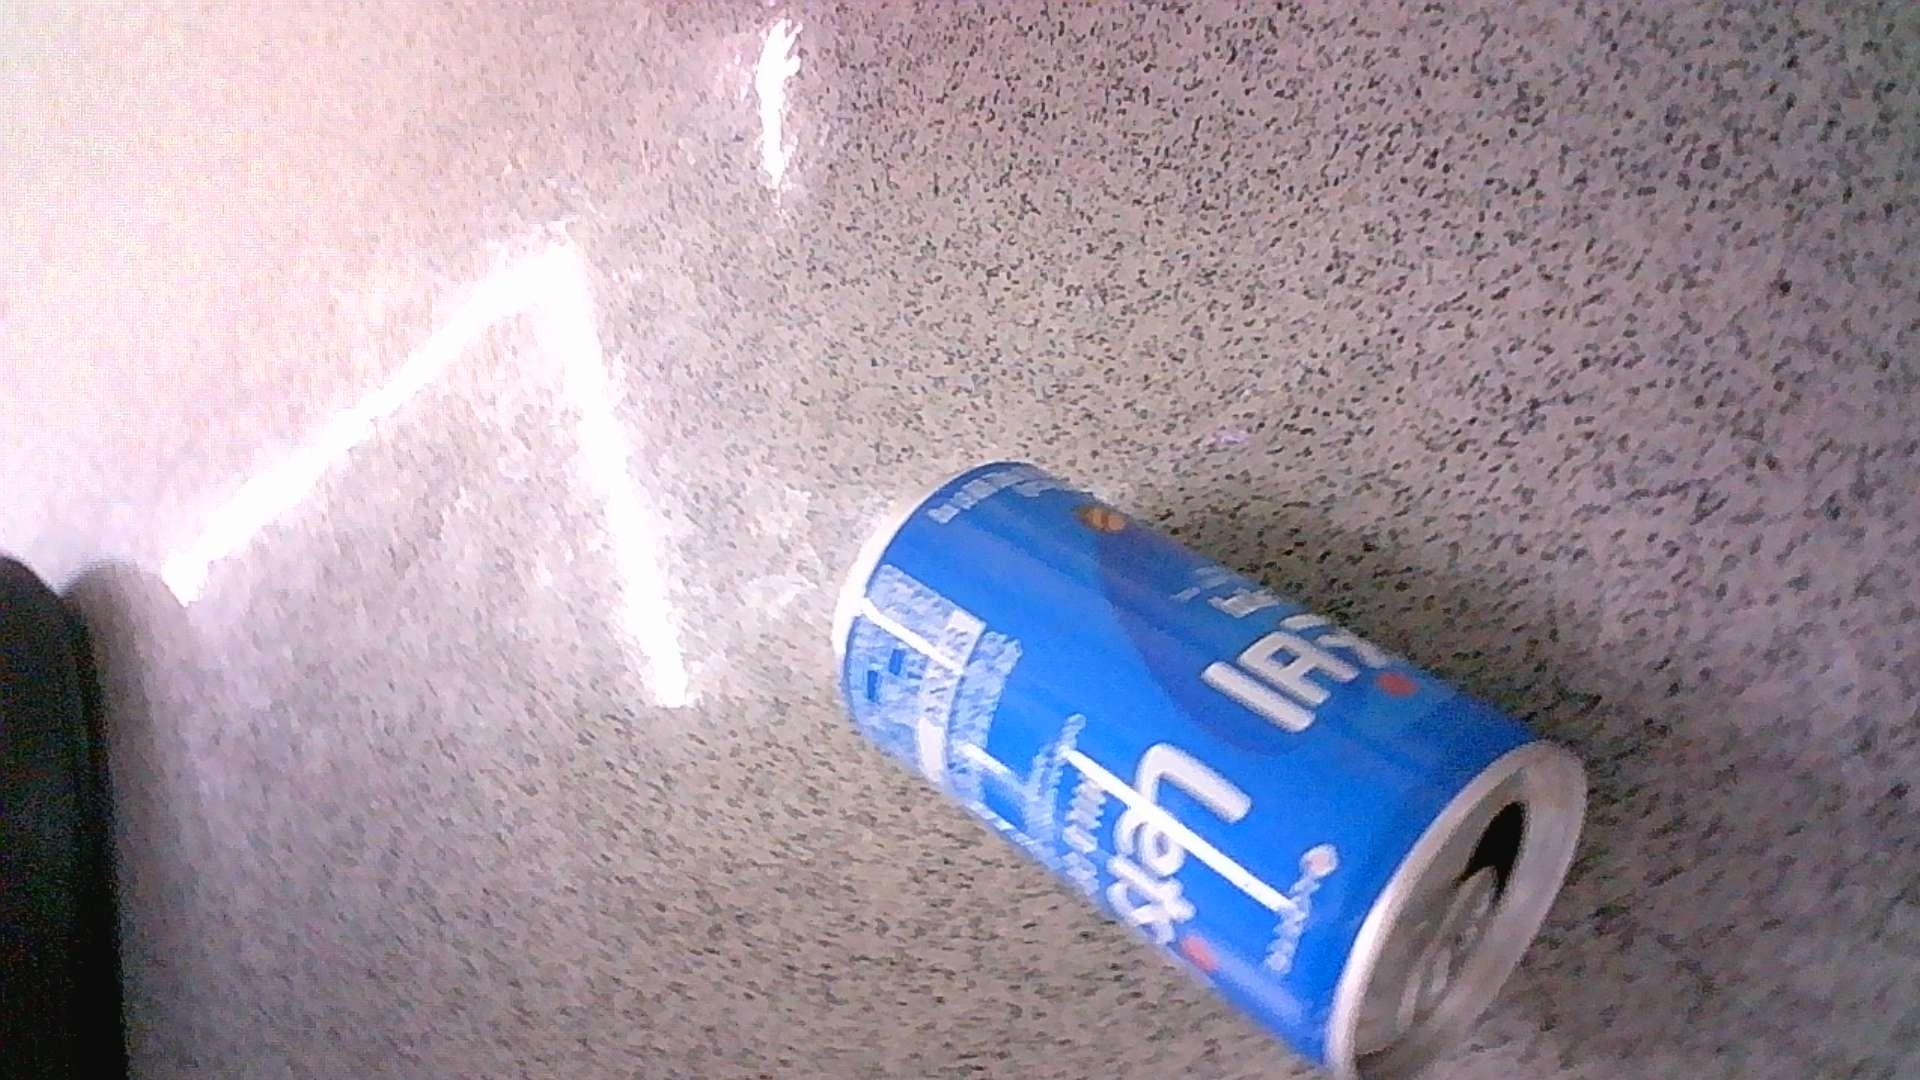letsbe: (831, 455, 1588, 1080)
